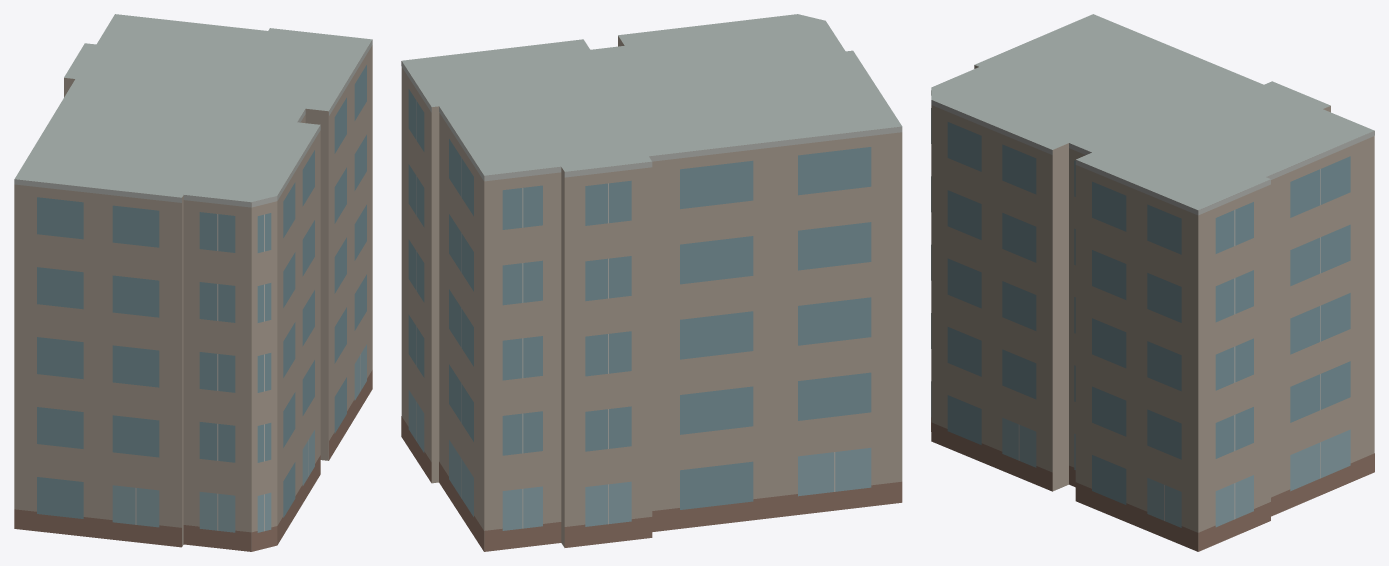
File: survey-upis-32661397.glb
The picture shows the model from 3 angles, left to right: view 1: azimuth 30°, elevation 25°; view 2: azimuth 150°, elevation 25°; view 3: azimuth 270°, elevation 25°; orthographic projection. The views are drawn at different scales.
Visible parts, largest first — view 1: survey-upis-32661397.tmp; view 2: survey-upis-32661397.tmp; view 3: survey-upis-32661397.tmp.
Part boxes in pixels (x1,y1,x2,y2): survey-upis-32661397.tmp: (14, 14, 372, 551); survey-upis-32661397.tmp: (401, 14, 902, 551); survey-upis-32661397.tmp: (931, 14, 1374, 551).
Size of the model in its own units: 19.85 by 16.1 by 18.96.
